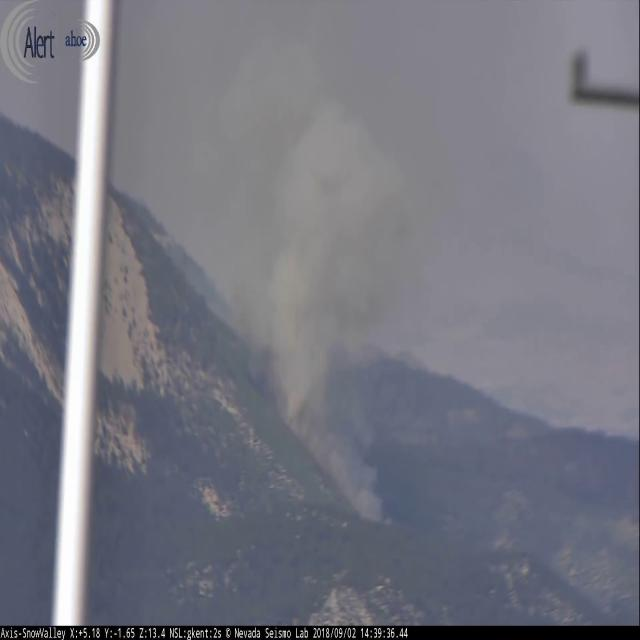smoke: (218, 22, 392, 542)
